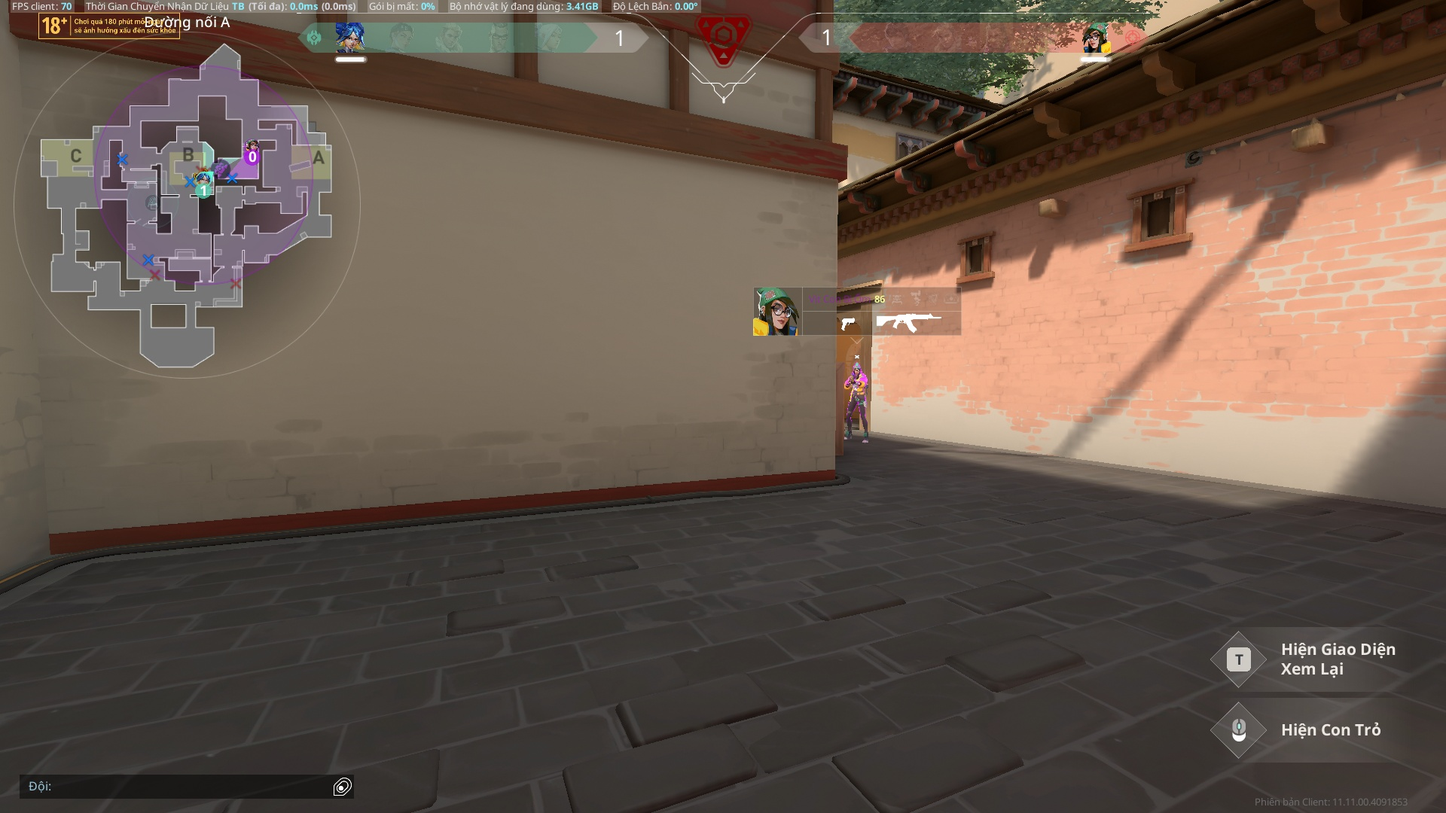body: (847, 373, 868, 391)
head: (853, 366, 862, 375)
